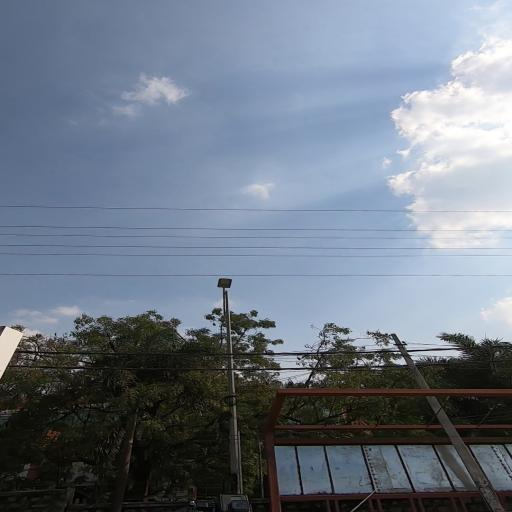Street_light: (212, 276, 238, 308)
